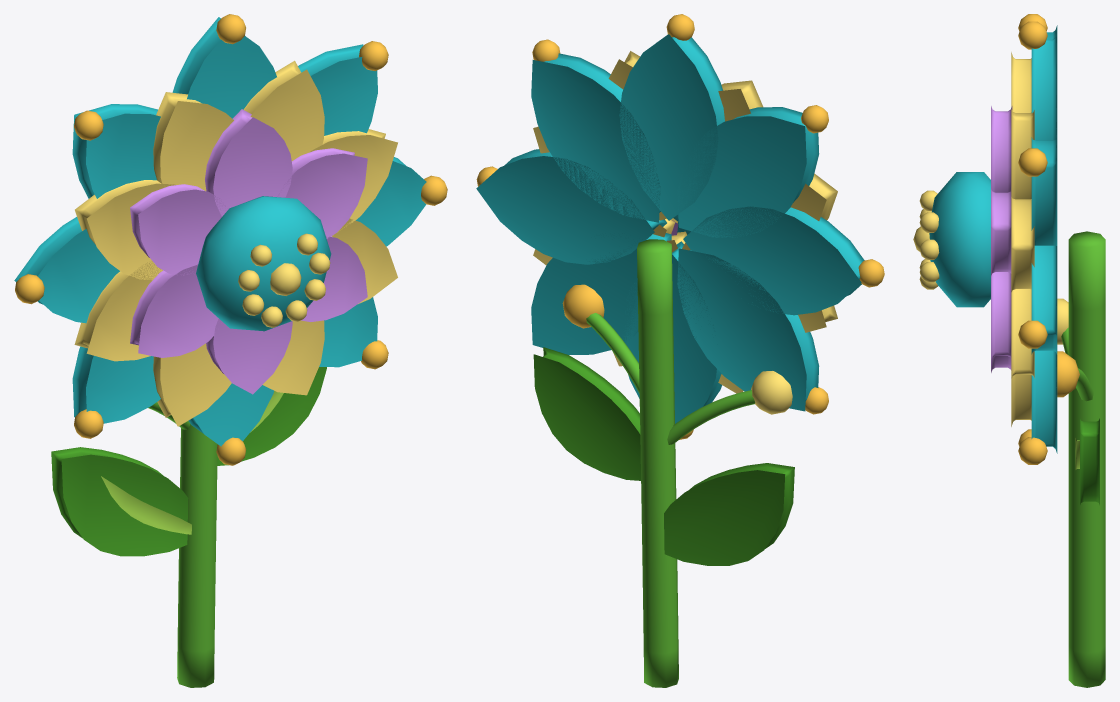
Rendered from star_bloom.glb.
3 renders of one model, left to right at view 1: azimuth 30°, elevation 25°; view 2: azimuth 150°, elevation 25°; view 3: azimuth 270°, elevation 25°, orthographic. The views are drawn at different scales.
Parts seen in each view (by area): view 1: star_bloom; view 2: star_bloom; view 3: star_bloom.
Boxes of the visible parts, box(x1,y1,x2,y2) form: star_bloom: box(14, 14, 447, 687); star_bloom: box(476, 14, 884, 687); star_bloom: box(913, 14, 1105, 687).
Size of what is drawn, in the model's own units: 1.68 by 2.56 by 0.675.
1 material, 1 textured.
